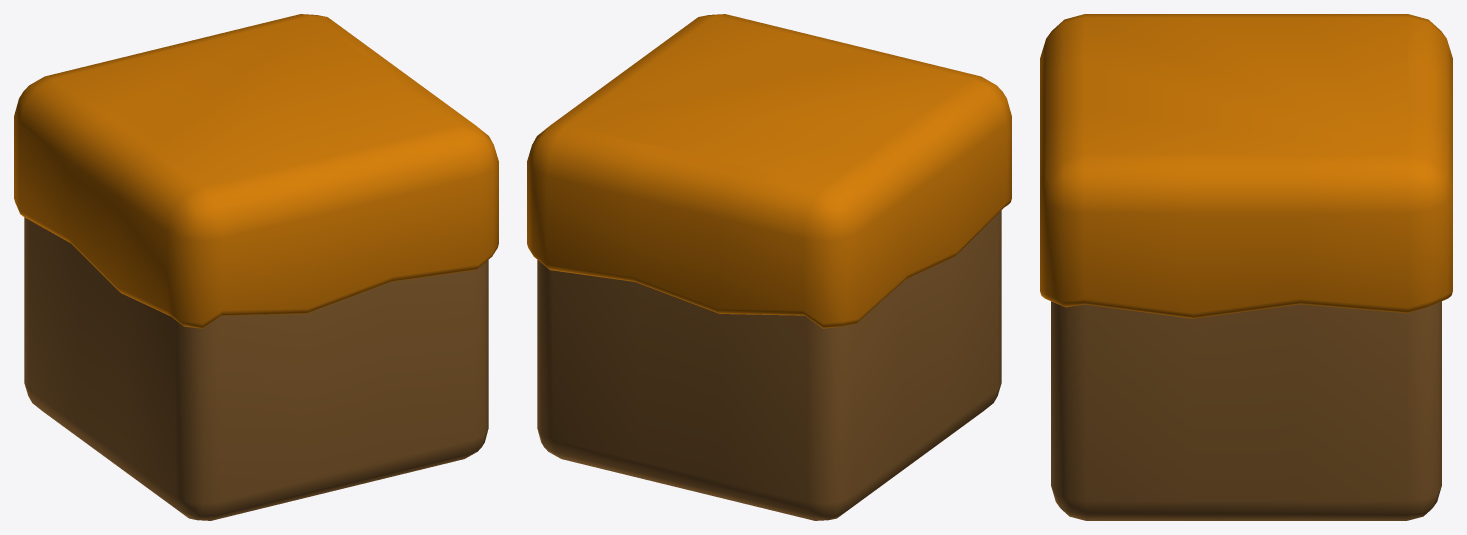
Rendered from Block_2.fbx.
3 views of the same model, side by side, from view 1: azimuth 30°, elevation 25°; view 2: azimuth 150°, elevation 25°; view 3: azimuth 270°, elevation 25° (orthographic). The views are drawn at different scales.
Visible parts, largest first — view 1: Block_2; view 2: Block_2; view 3: Block_2.
Boxes of the visible parts, x1,y1,x2,y2 form: Block_2: [14, 14, 498, 520]; Block_2: [527, 14, 1011, 520]; Block_2: [1040, 14, 1452, 520].
Size of the model in its own units: 0.3759 by 0.3657 by 0.3759.
